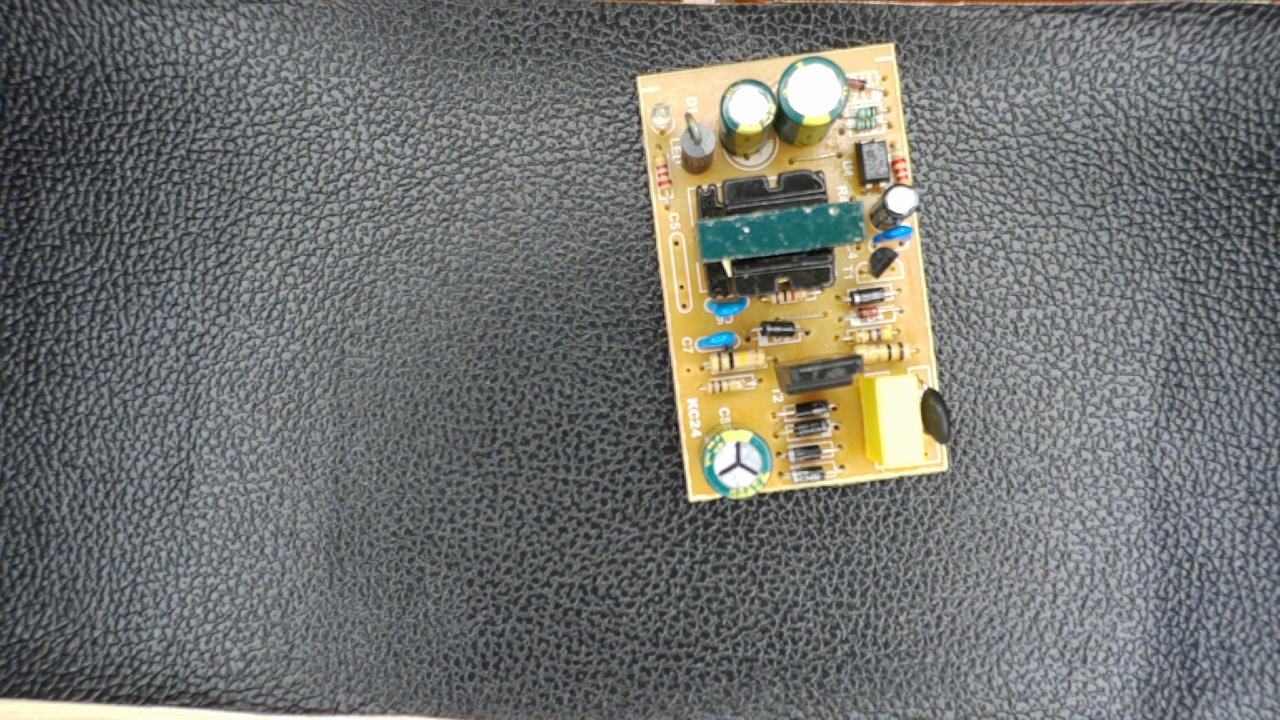fuse: (909, 374, 956, 453)
hv_capacitor: (696, 422, 771, 503)
optocoupler: (852, 132, 894, 195)
